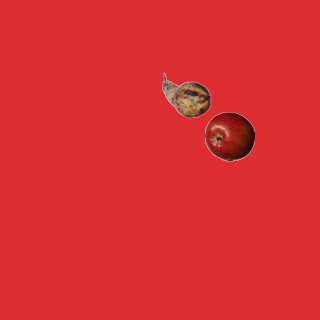Apple Braeburn: (204, 111, 254, 161)
Pear Abate: (161, 70, 211, 120)
